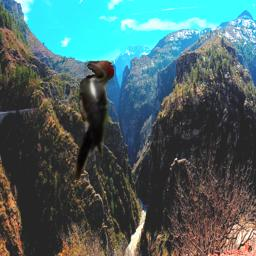Woodpecker: (74, 60, 114, 180)
